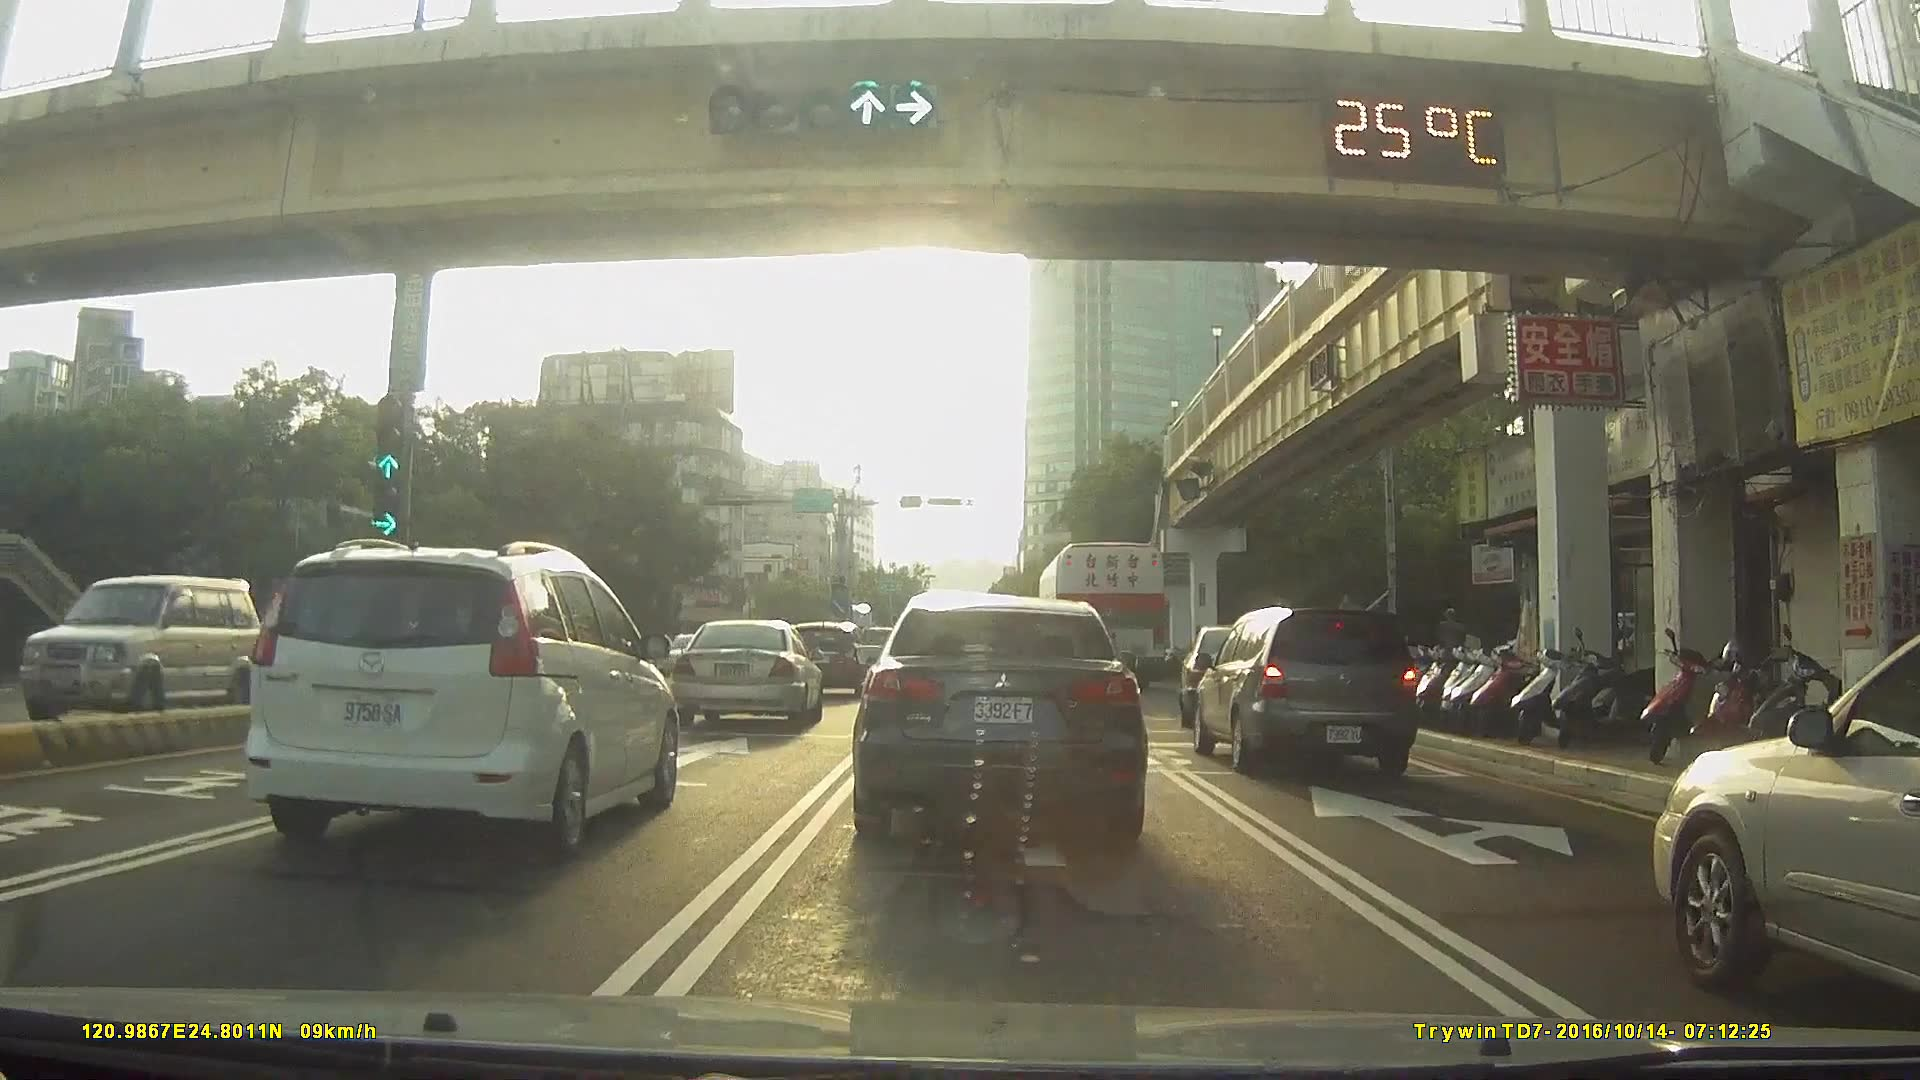vehicle: (235, 537, 684, 858), (1647, 630, 1920, 1000), (851, 589, 1145, 852), (1191, 604, 1419, 781), (22, 566, 247, 723), (1033, 539, 1168, 688), (671, 615, 822, 728), (1182, 621, 1302, 719), (779, 621, 864, 698), (647, 633, 707, 680)
